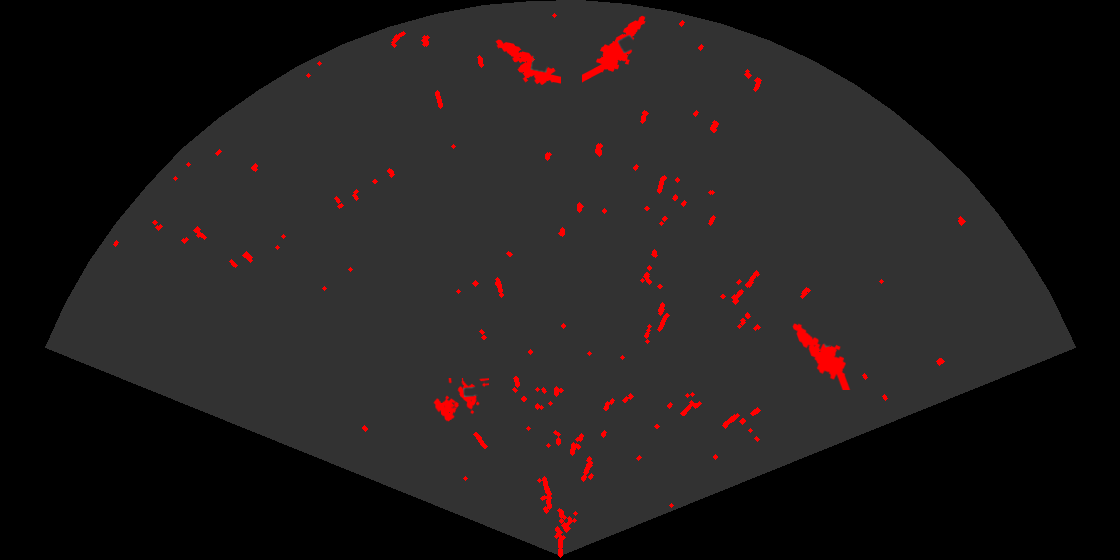cage: (432, 378, 489, 423)
frogman: (582, 14, 647, 83), (791, 322, 852, 390), (494, 38, 561, 87)
